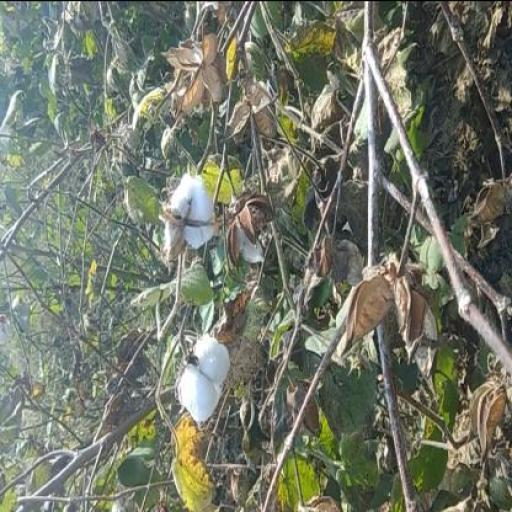cotton_ready: (178, 320, 238, 441), (158, 164, 224, 260)
